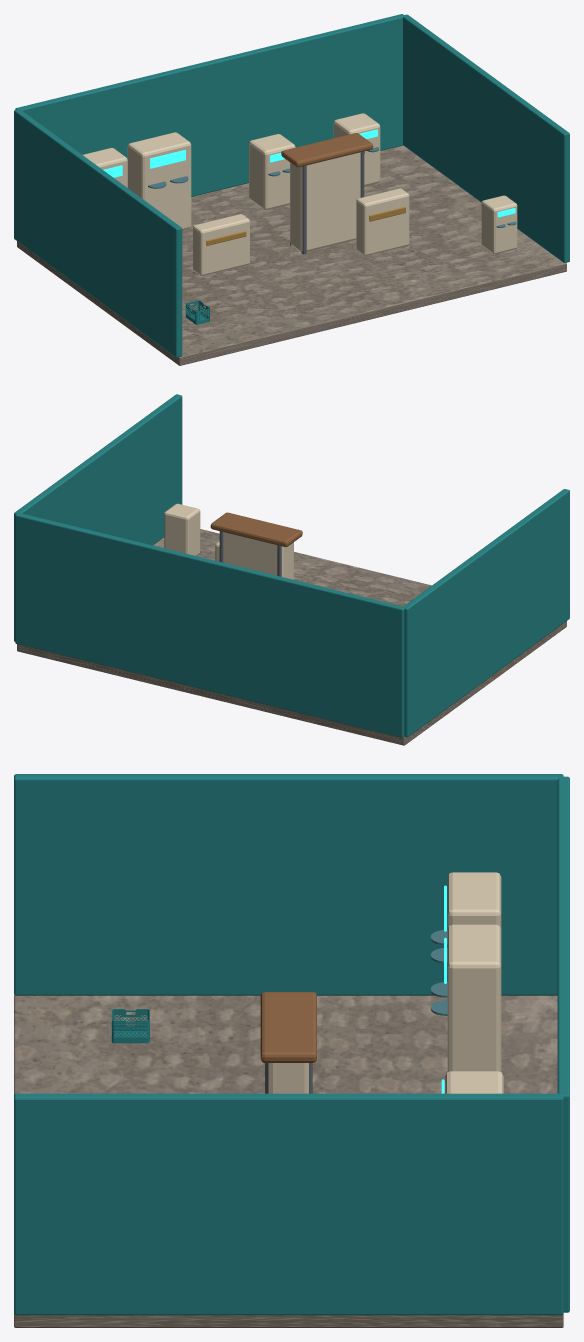
File: location_laundromat_v3.glb
The picture shows the model from 3 angles, top to bottom: view 1: azimuth 30°, elevation 25°; view 2: azimuth 150°, elevation 25°; view 3: azimuth 270°, elevation 25°; orthographic projection. The views are drawn at different scales.
Parts seen in each view (by area): view 1: location_laundromat_v3_FLOOR, location_laundromat_v3_BACK, location_laundromat_v3_LEFT, location_laundromat_v3_RIGHT, INT_FOLDING_TABLE_BODY.001, INT_WASHER_BODY.002, INT_COUNTER_STOOL_BODY.001, INT_LAUNDRY_CART_BODY.001, INT_DRYER_BANK_BODY.001, INT_VENDING_MACHINE_BODY.001, INT_FOLDING_TABLE_TOP.001, INT_DRYER_BANK_BODY.002 (+3 smaller); view 2: location_laundromat_v3_BACK, location_laundromat_v3_LEFT, location_laundromat_v3_RIGHT, location_laundromat_v3_FLOOR, INT_FOLDING_TABLE_BODY.001, INT_VENDING_MACHINE_BODY.001, INT_FOLDING_TABLE_TOP.001; view 3: location_laundromat_v3_RIGHT, location_laundromat_v3_LEFT, location_laundromat_v3_FLOOR, INT_WASHER_BODY.002, location_laundromat_v3_BACK, INT_FOLDING_TABLE_TOP.001, INT_WASHER_BODY.001, INT_DRYER_BANK_BODY.001, plastic_crate_01.001, INT_FOLDING_TABLE_BODY.001.
Boxes of the visible parts, x1,y1,x2,y2 form: location_laundromat_v3_FLOOR: (17, 145, 566, 365); location_laundromat_v3_BACK: (15, 14, 404, 196); location_laundromat_v3_LEFT: (14, 109, 182, 357); location_laundromat_v3_RIGHT: (403, 14, 569, 262); INT_FOLDING_TABLE_BODY.001: (290, 152, 360, 252); INT_WASHER_BODY.002: (127, 132, 191, 230); INT_COUNTER_STOOL_BODY.001: (356, 188, 409, 255); INT_LAUNDRY_CART_BODY.001: (193, 214, 249, 275); INT_DRYER_BANK_BODY.001: (249, 134, 295, 210); INT_VENDING_MACHINE_BODY.001: (481, 195, 517, 253); INT_FOLDING_TABLE_TOP.001: (281, 133, 373, 167); INT_DRYER_BANK_BODY.002: (333, 113, 380, 186); location_laundromat_v3_BACK: (15, 513, 404, 737); location_laundromat_v3_LEFT: (403, 489, 569, 737); location_laundromat_v3_RIGHT: (14, 394, 182, 641); location_laundromat_v3_FLOOR: (17, 529, 566, 745); INT_FOLDING_TABLE_BODY.001: (223, 532, 293, 579); INT_VENDING_MACHINE_BODY.001: (164, 503, 200, 555); INT_FOLDING_TABLE_TOP.001: (210, 512, 302, 546); location_laundromat_v3_RIGHT: (14, 1093, 563, 1315); location_laundromat_v3_LEFT: (14, 774, 563, 995); location_laundromat_v3_FLOOR: (14, 995, 563, 1327); INT_WASHER_BODY.002: (447, 924, 501, 1071); location_laundromat_v3_BACK: (557, 776, 569, 1312); INT_FOLDING_TABLE_TOP.001: (260, 992, 316, 1062); INT_WASHER_BODY.001: (447, 872, 501, 928); INT_DRYER_BANK_BODY.001: (445, 1071, 503, 1093); plastic_crate_01.001: (111, 1009, 149, 1043); INT_FOLDING_TABLE_BODY.001: (268, 1063, 308, 1093).
Size of the model in its own units: 11.18 by 3.74 by 8.09.
Materials: 10 (1 with a texture image).
